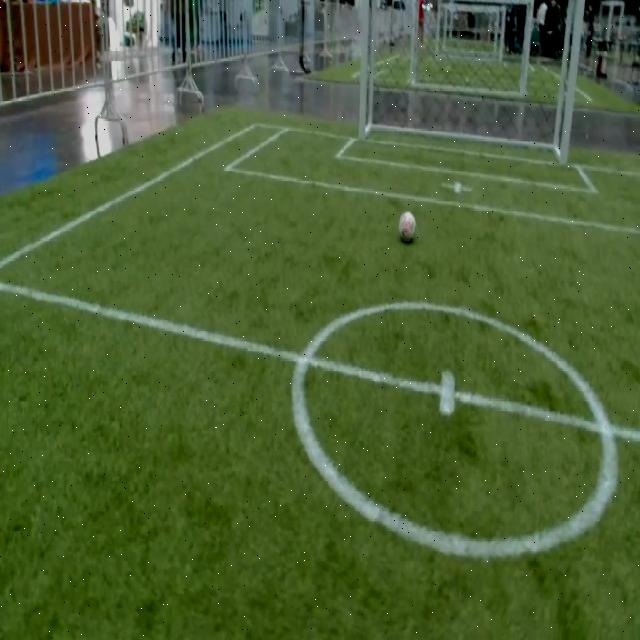ball: (399, 212, 416, 242)
goalpost: (556, 132, 569, 171), (356, 112, 369, 145)
